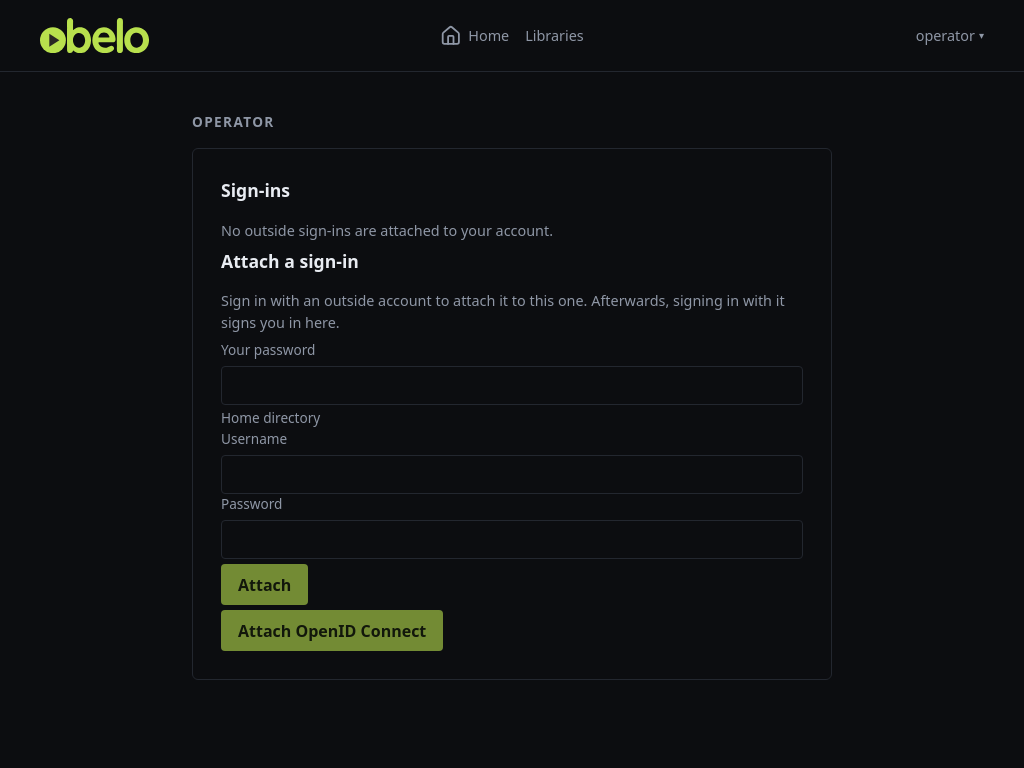
the profile's sign-ins › attaches through a password provider and shows it
Type "mine" into the password field with test id "profile-current-password".
click(512, 385); type("mine")  # box [221, 366, 803, 405]
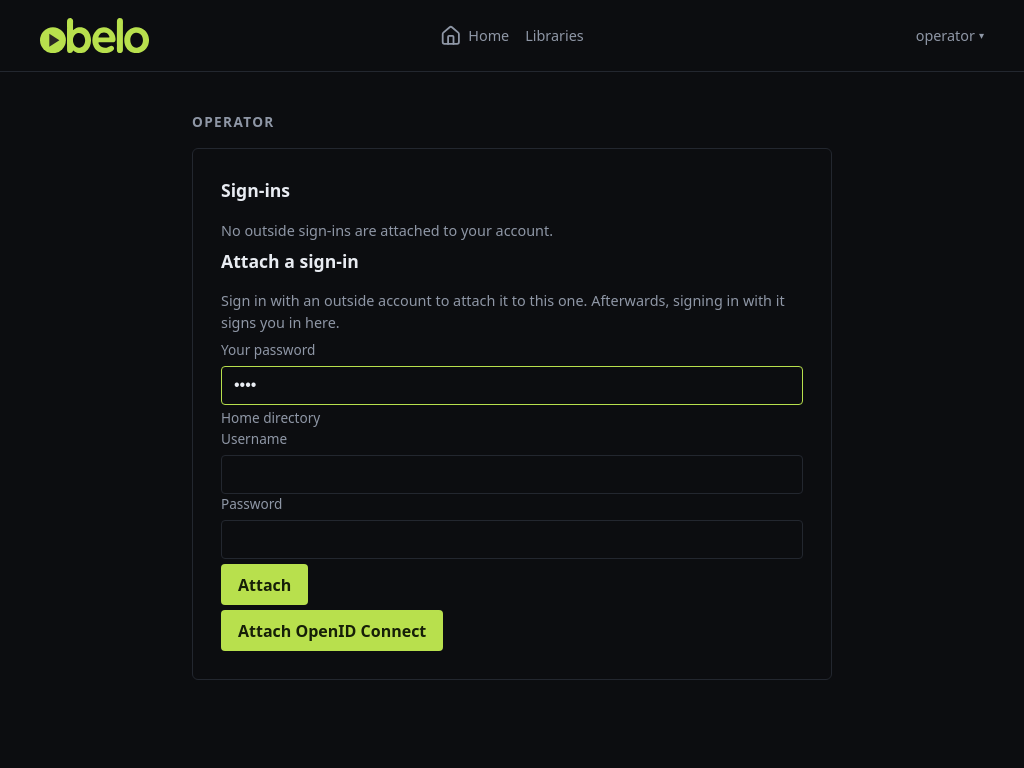
Type "bj" into the field with test id "profile-attach-username-directory".
click(512, 474); type("bj")  # box [221, 455, 803, 494]
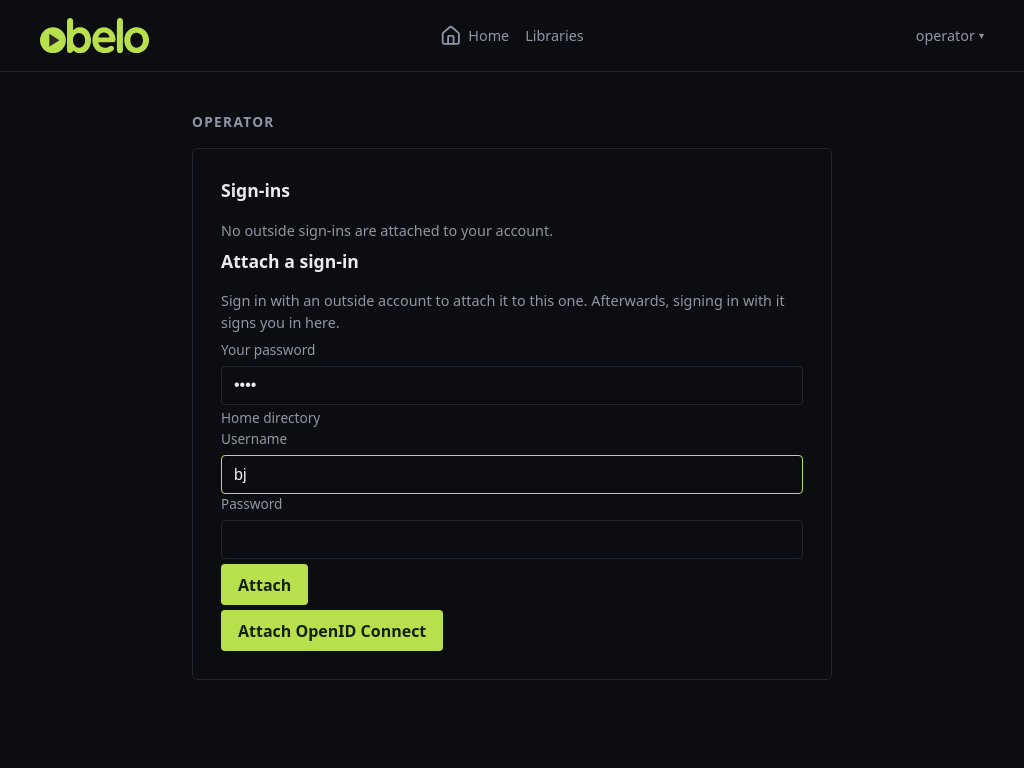
Type "bj-pw" into the password field with test id "profile-attach-password-directory".
click(512, 540); type("bj-pw")  # box [221, 520, 803, 559]
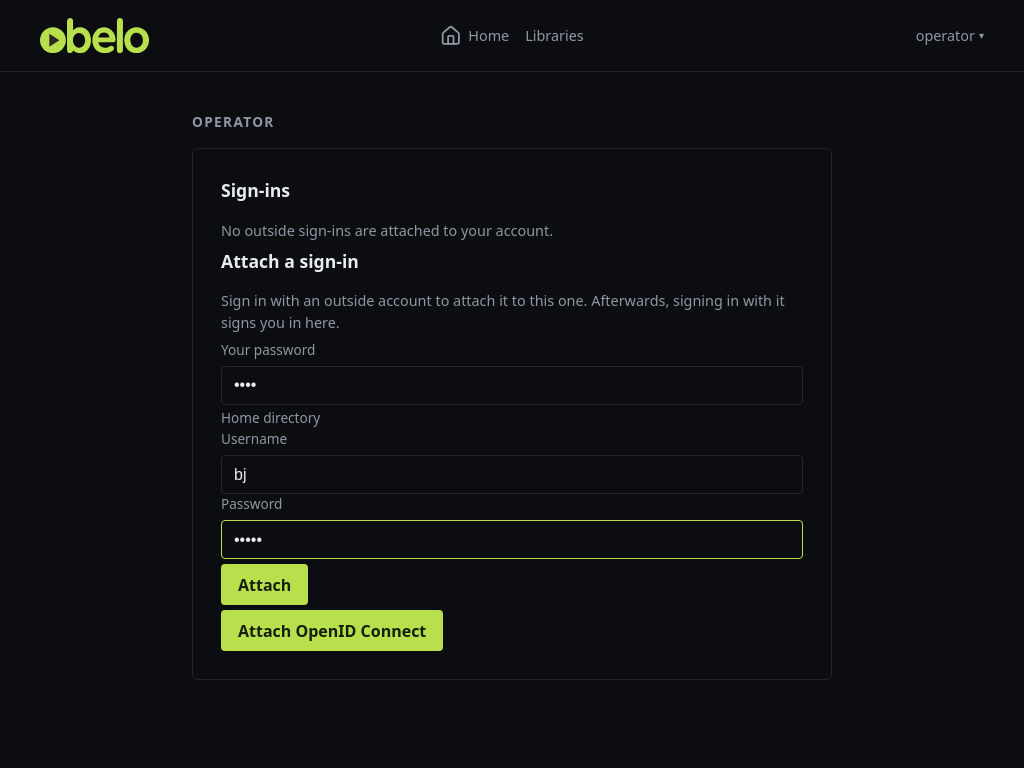
Click the button with test id "profile-attach-submit-directory".
click(265, 585)  # box [221, 564, 308, 605]
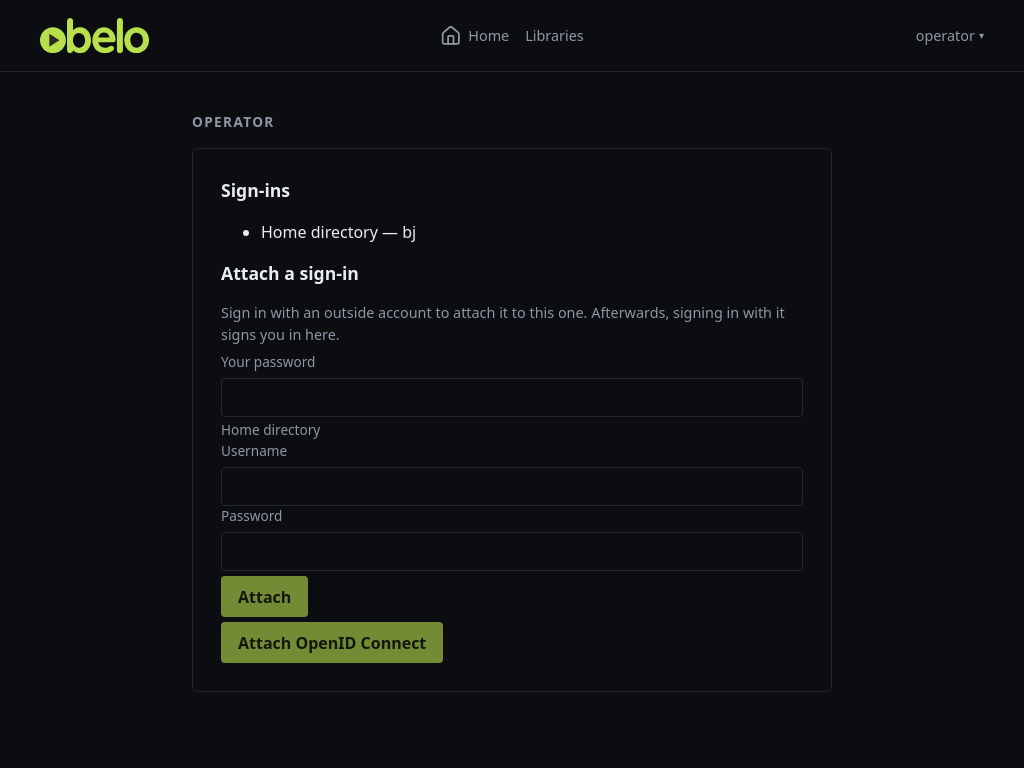
Expected: the list item with test id "profile-identity-directory" is shown, [261, 221, 416, 243]
